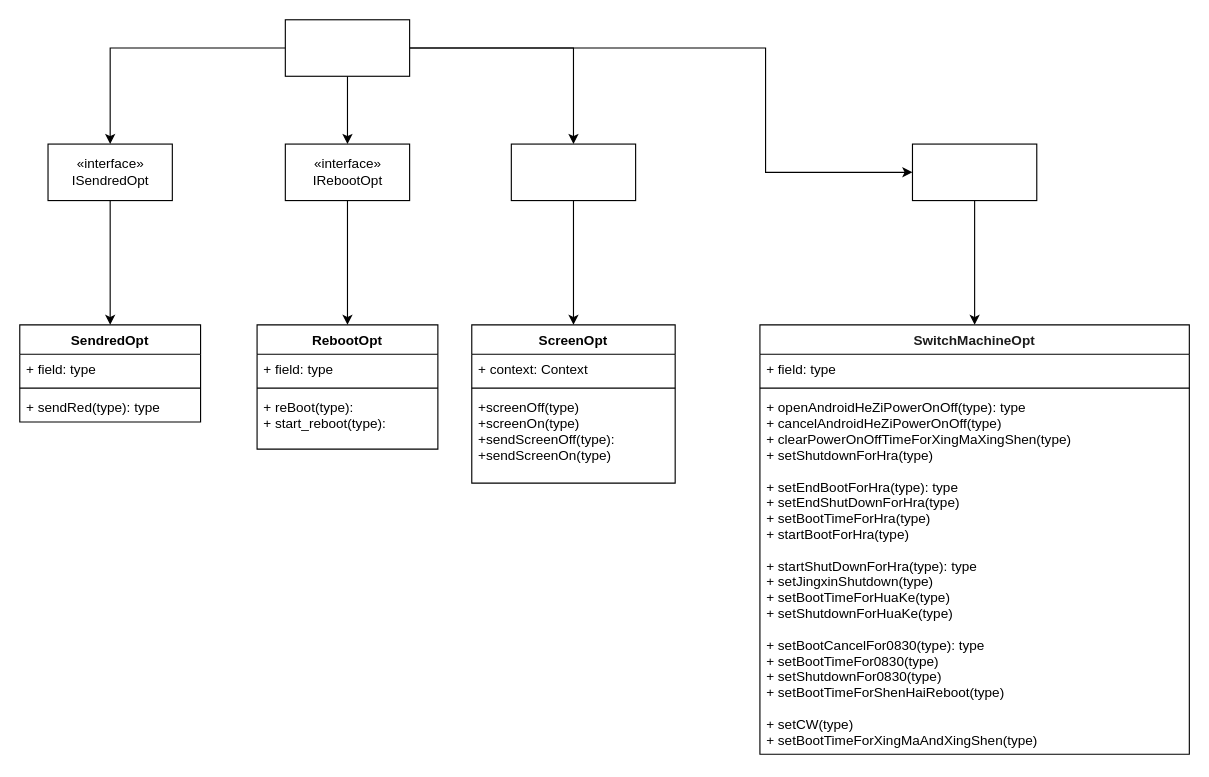
Some shapes in this 1209 by 777 pixel diagram are drawn without their labels. The shapes that lost their labels are listed below. From the top down, each one's box as (x1, y1, x2, y2) in pixels, then its label:
(284, 19, 410, 76): «interface» IDeviceOpt
(510, 143, 636, 201): «interface» IScreenOpt
(911, 143, 1037, 201): «interface» ISwitchMachineOpt
